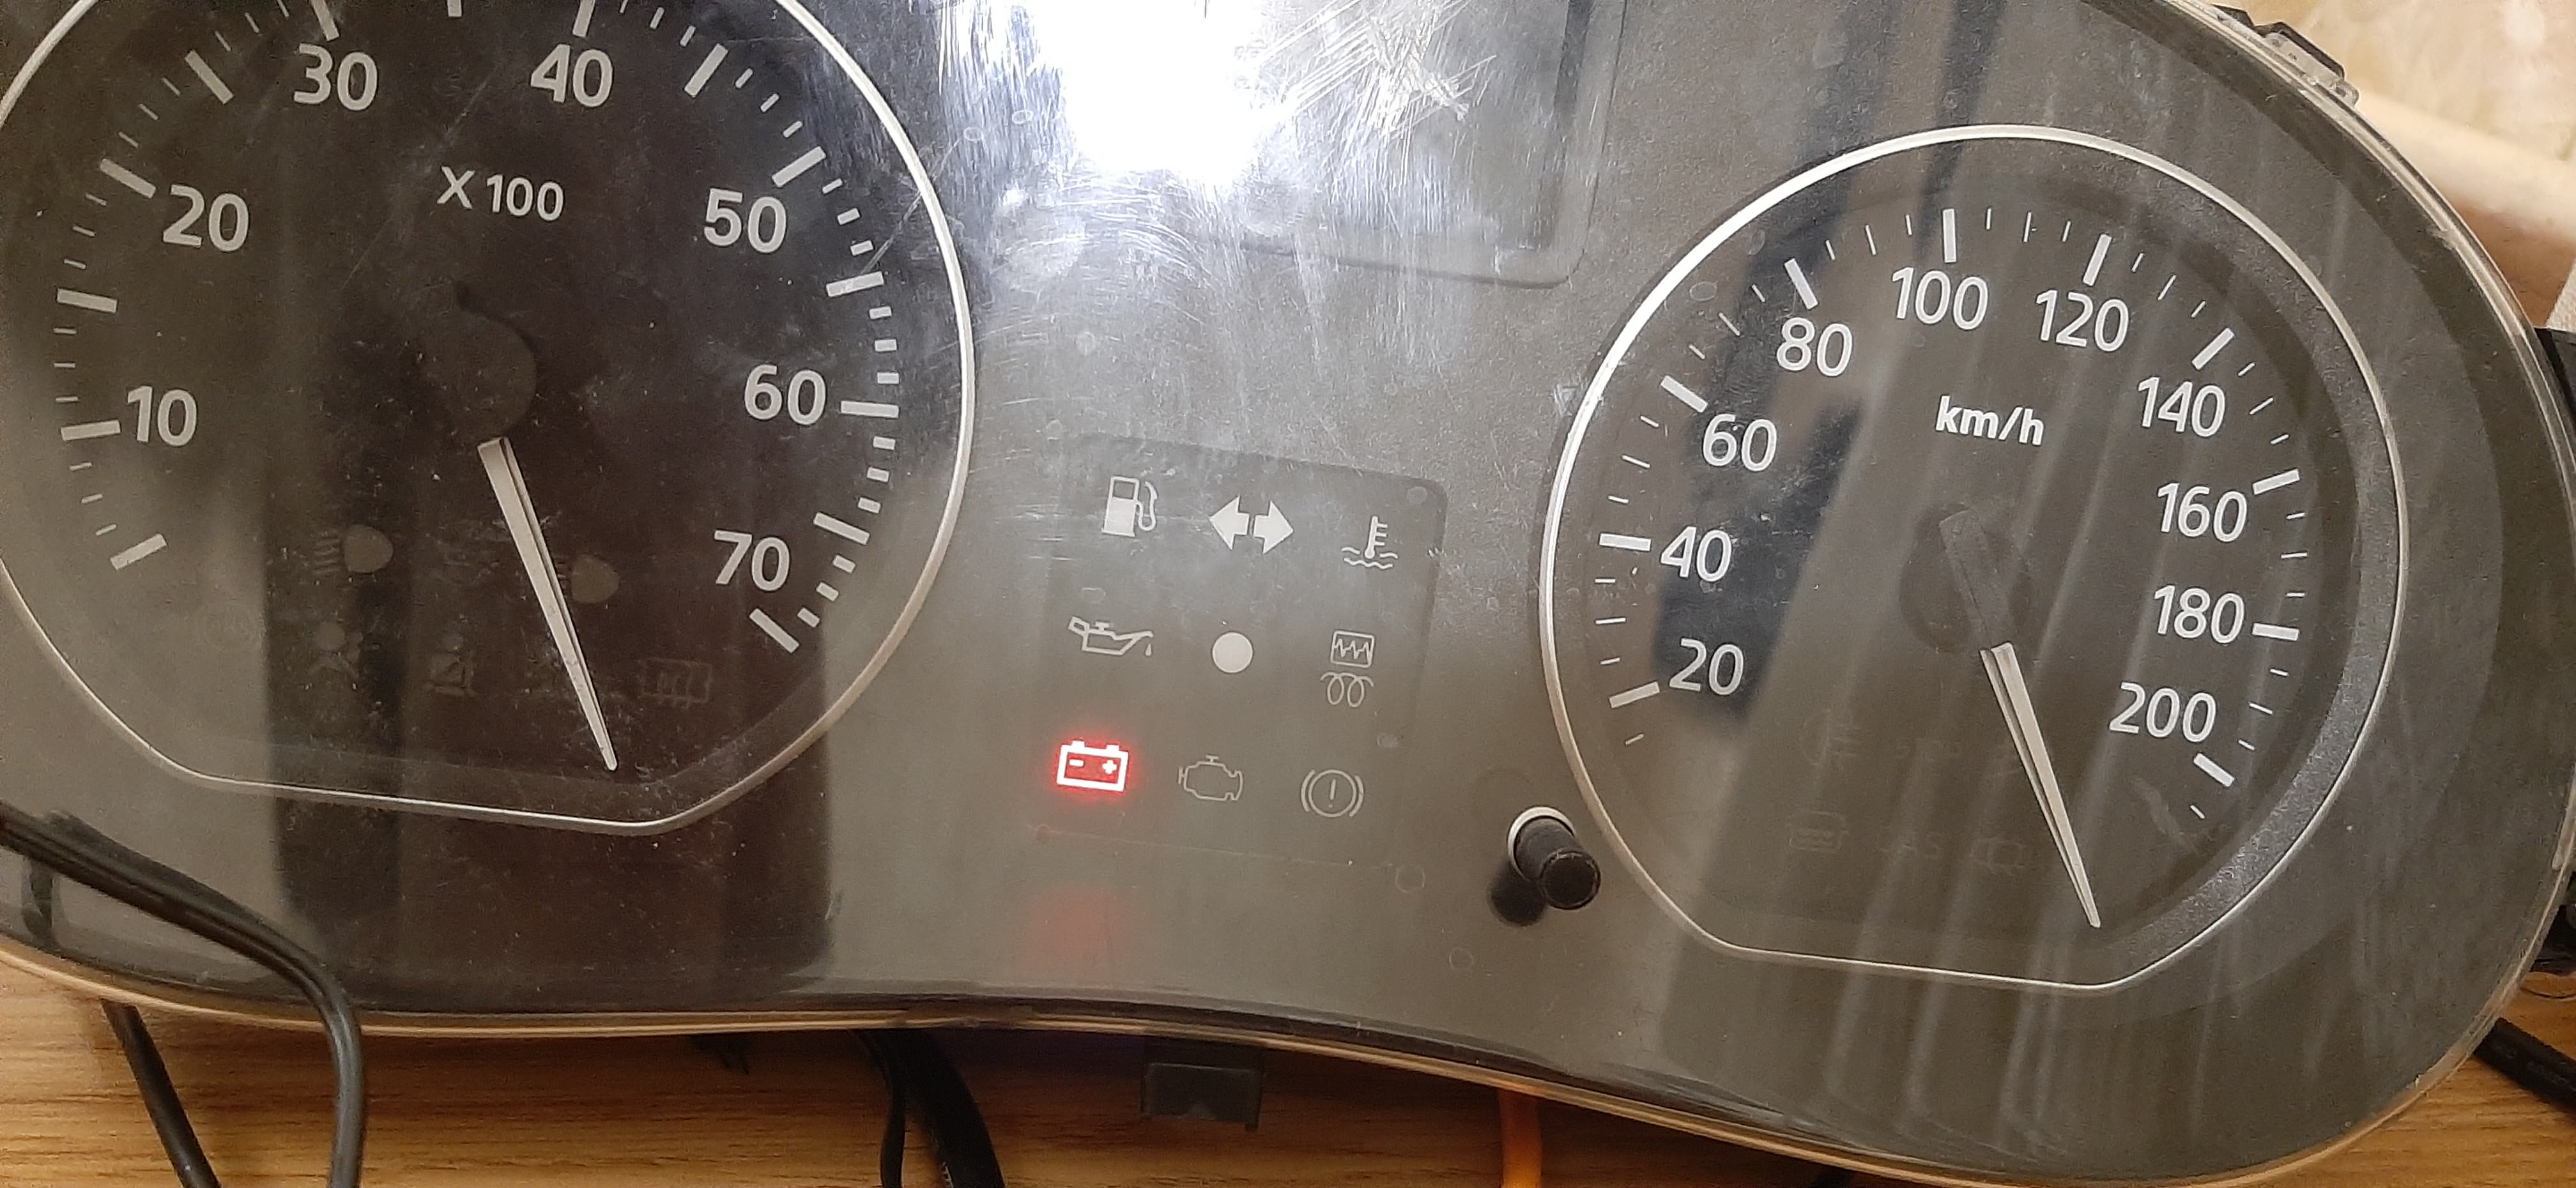accomulator13: (1046, 734, 1140, 795)
